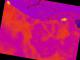Foc: (54, 13, 69, 28), (68, 23, 80, 40)
